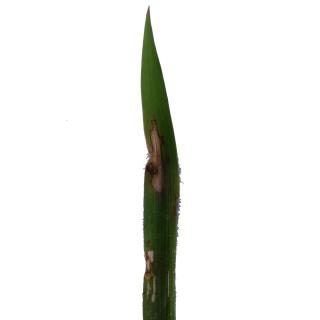Hawar-Daun: (142, 121, 170, 198), (144, 236, 160, 312)
